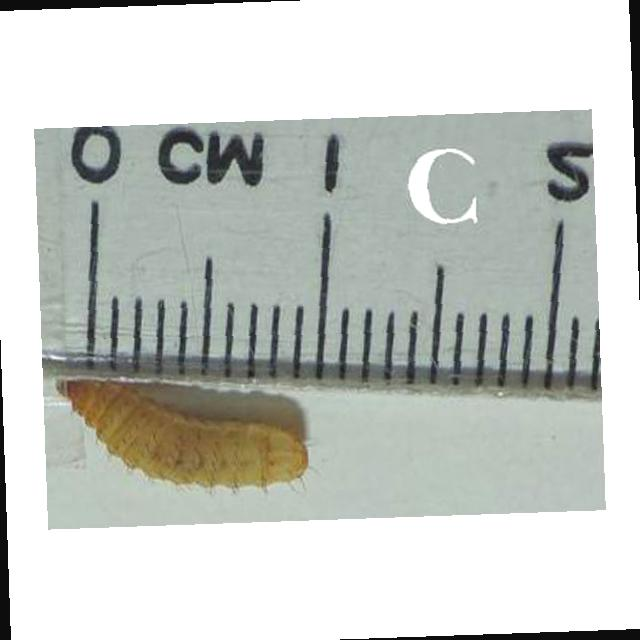Maggot: (51, 375, 312, 491)
